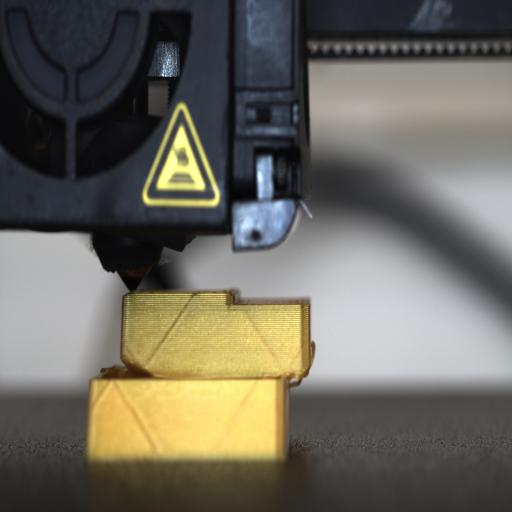layer_shift: (90, 346, 317, 386)
